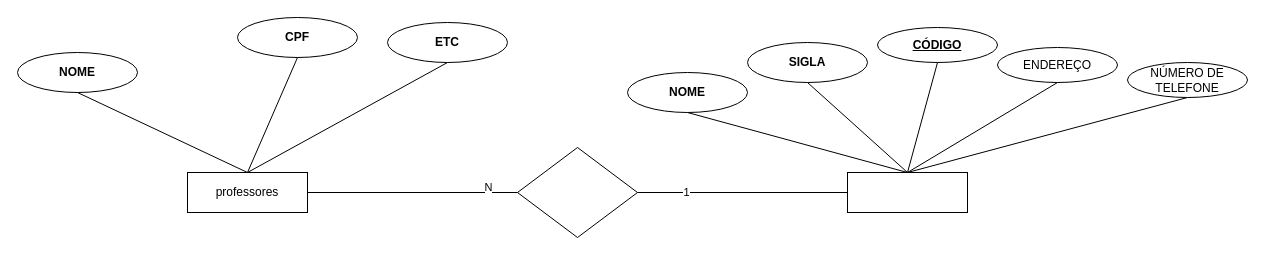
This 1265x255 diagram has some shape labels left out. The box of each missing label's shape, as (x1, y1, x2, y2) in pixels:
DEPARTAMENTO: (846, 172, 968, 212)
TRABALHA EM: (516, 146, 638, 238)
